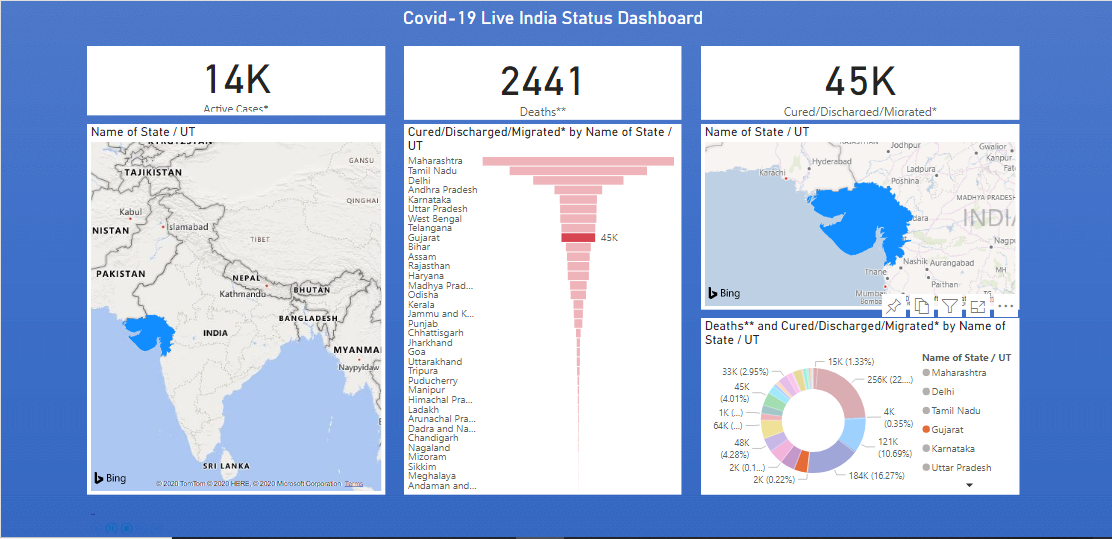

What the dashboard file says about the page in this screenshot:
{"tool":"powerbi","page":{"name":"Page 1","canvas":[1280,720],"ordinal":0},"visuals":[{"type":"filledMap","fields":{"Category":["Table 1.Name of State / UT"]},"box":[9.9,166.3,400.1,497.4],"z":0},{"type":"filledMap","fields":{"Category":["Table 1.Name of State / UT"]},"box":[832.7,166.3,426.9,249.4],"z":1000},{"type":"funnel","fields":{"Y":["Sum(Table 1.Cured/Discharged/Migrated*)"],"Category":["Table 1.Name of State / UT"]},"box":[434,166.3,372,497.4],"z":2000},{"type":"textbox","title":"Covid-19 Live India Status Dashboard","box":[9.9,11.3,1249.8,35.2],"z":3000},{"type":"donutChart","fields":{"Y":["Sum(Table 1.Deaths**)","Sum(Table 1.Cured/Discharged/Migrated*)"],"Category":["Table 1.Name of State / UT"]},"box":[832.7,426.9,426.9,236.7],"z":4000},{"type":"card","fields":{"Values":["Sum(Table 1.Active Cases*)"]},"box":[9.9,62,400.1,93],"z":5000},{"type":"card","fields":{"Values":["Sum(Table 1.Cured/Discharged/Migrated*)"]},"box":[832.7,62,426.9,98.6],"z":6000},{"type":"card","fields":{"Values":["Sum(Table 1.Deaths**)"]},"box":[434,62,372,98.6],"z":7000},{"type":"PBI_CV_16948668_E17D_454B_8664_2F2C470EA8C1","fields":{"category":["Table 1.Name of State / UT"]},"box":[9.9,674.9,400.1,45.1],"z":7001}]}

Visuals, with their boxes in screenshot pixels (x1, y1, x2, y2):
filledMap - Table 1.Name of State / UT: bbox=[91, 123, 386, 490]
filledMap - Table 1.Name of State / UT: bbox=[698, 123, 1013, 307]
funnel - Sum(Table 1.Cured/Discharged/Migrated*) x Table 1.Name of State / UT: bbox=[404, 123, 679, 490]
"Covid-19 Live India Status Dashboard" textbox: bbox=[91, 8, 1013, 34]
donutChart - Sum(Table 1.Deaths**) x Sum(Table 1.Cured/Discharged/Migrated*): bbox=[698, 315, 1013, 490]
card - Sum(Table 1.Active Cases*): bbox=[91, 46, 386, 114]
card - Sum(Table 1.Cured/Discharged/Migrated*): bbox=[698, 46, 1013, 118]
card - Sum(Table 1.Deaths**): bbox=[404, 46, 679, 118]
PBI_CV_16948668_E17D_454B_8664_2F2C470EA8C1 - Table 1.Name of State / UT: bbox=[91, 498, 386, 531]
